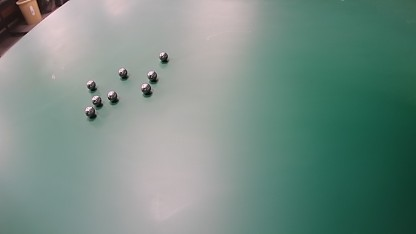ironball: (91, 95, 102, 106), (147, 70, 157, 81), (107, 91, 117, 102), (141, 83, 151, 94), (85, 106, 95, 117), (86, 80, 96, 90), (118, 67, 127, 78), (158, 52, 168, 61)
